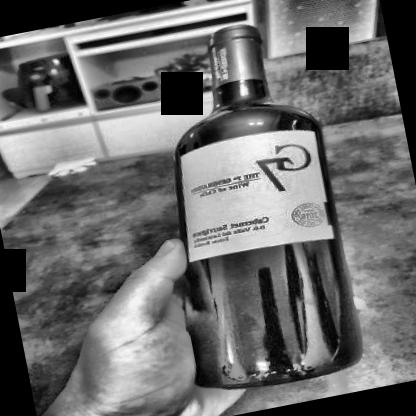G7: (165, 125, 331, 264)
